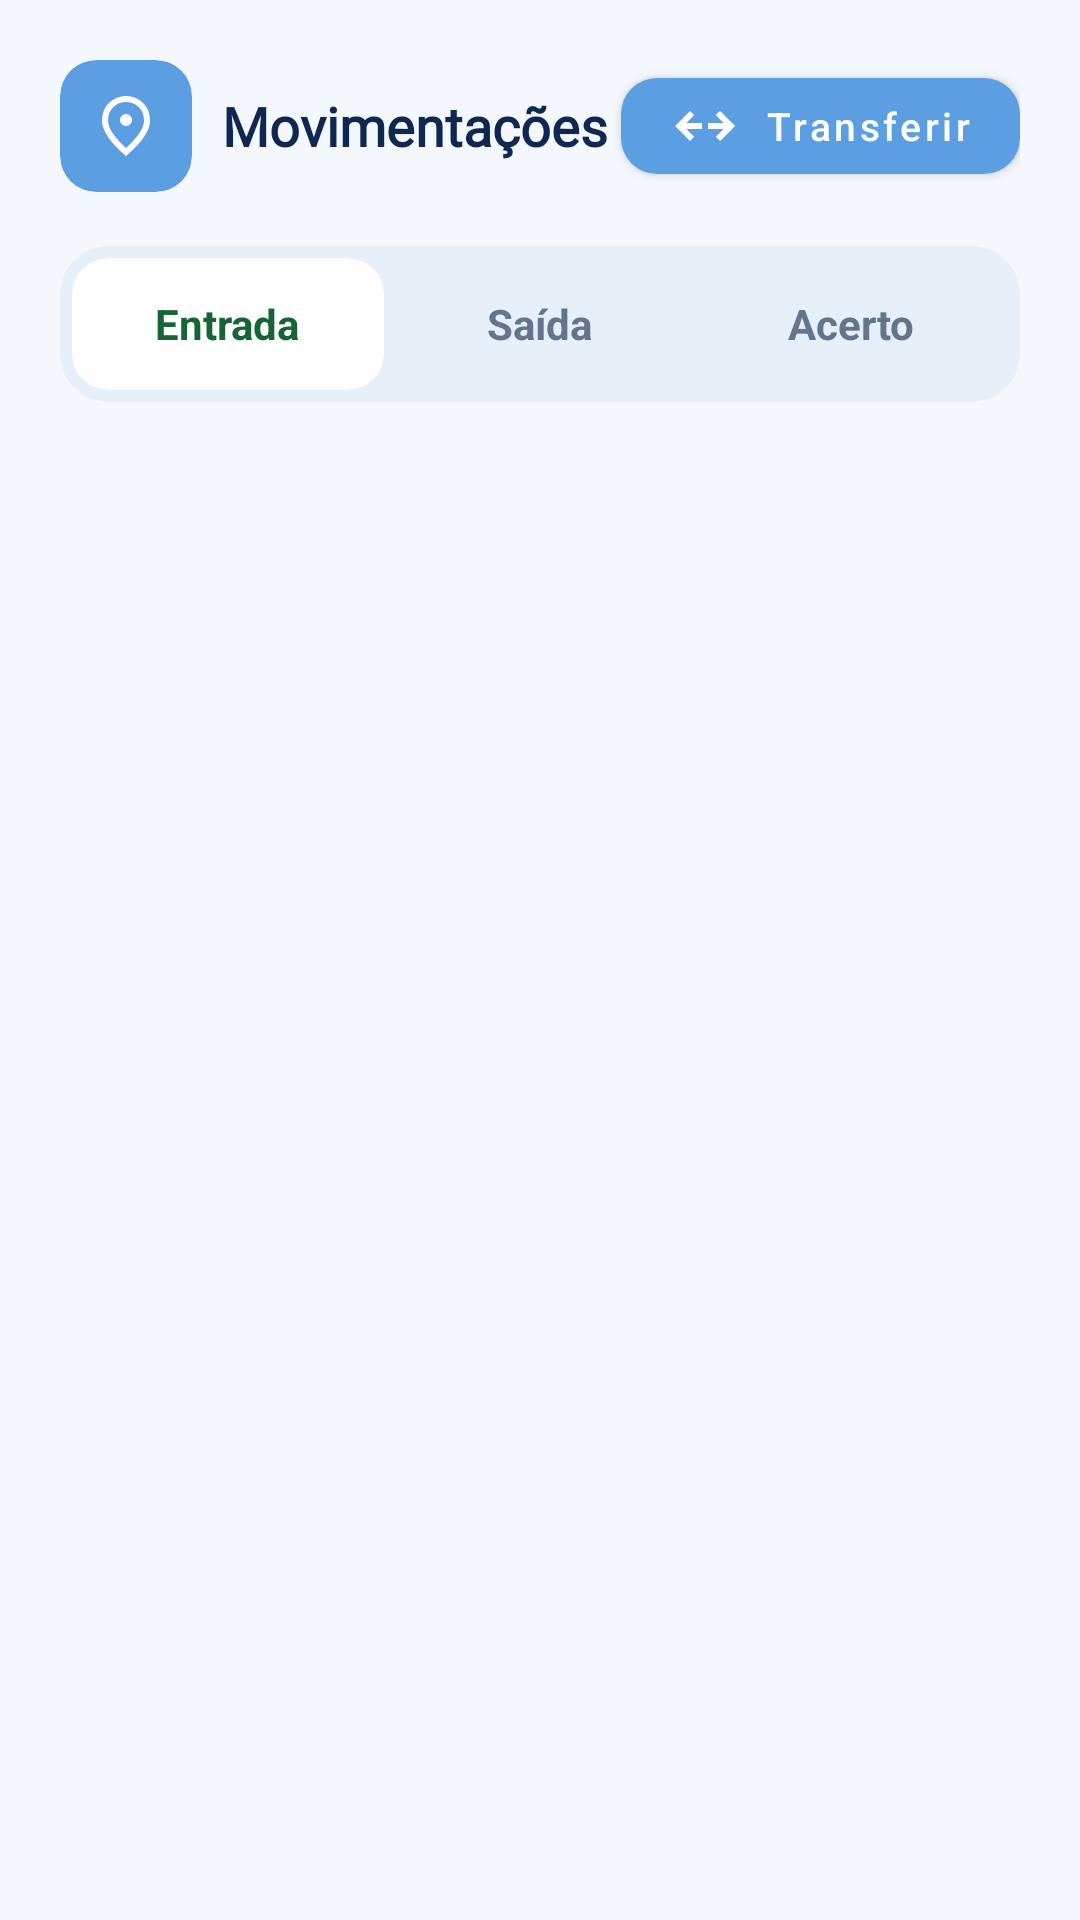

Named icons in this screenshot (1080w x 1920h) and their centers, [x,y]:
location pin: [126,126]
